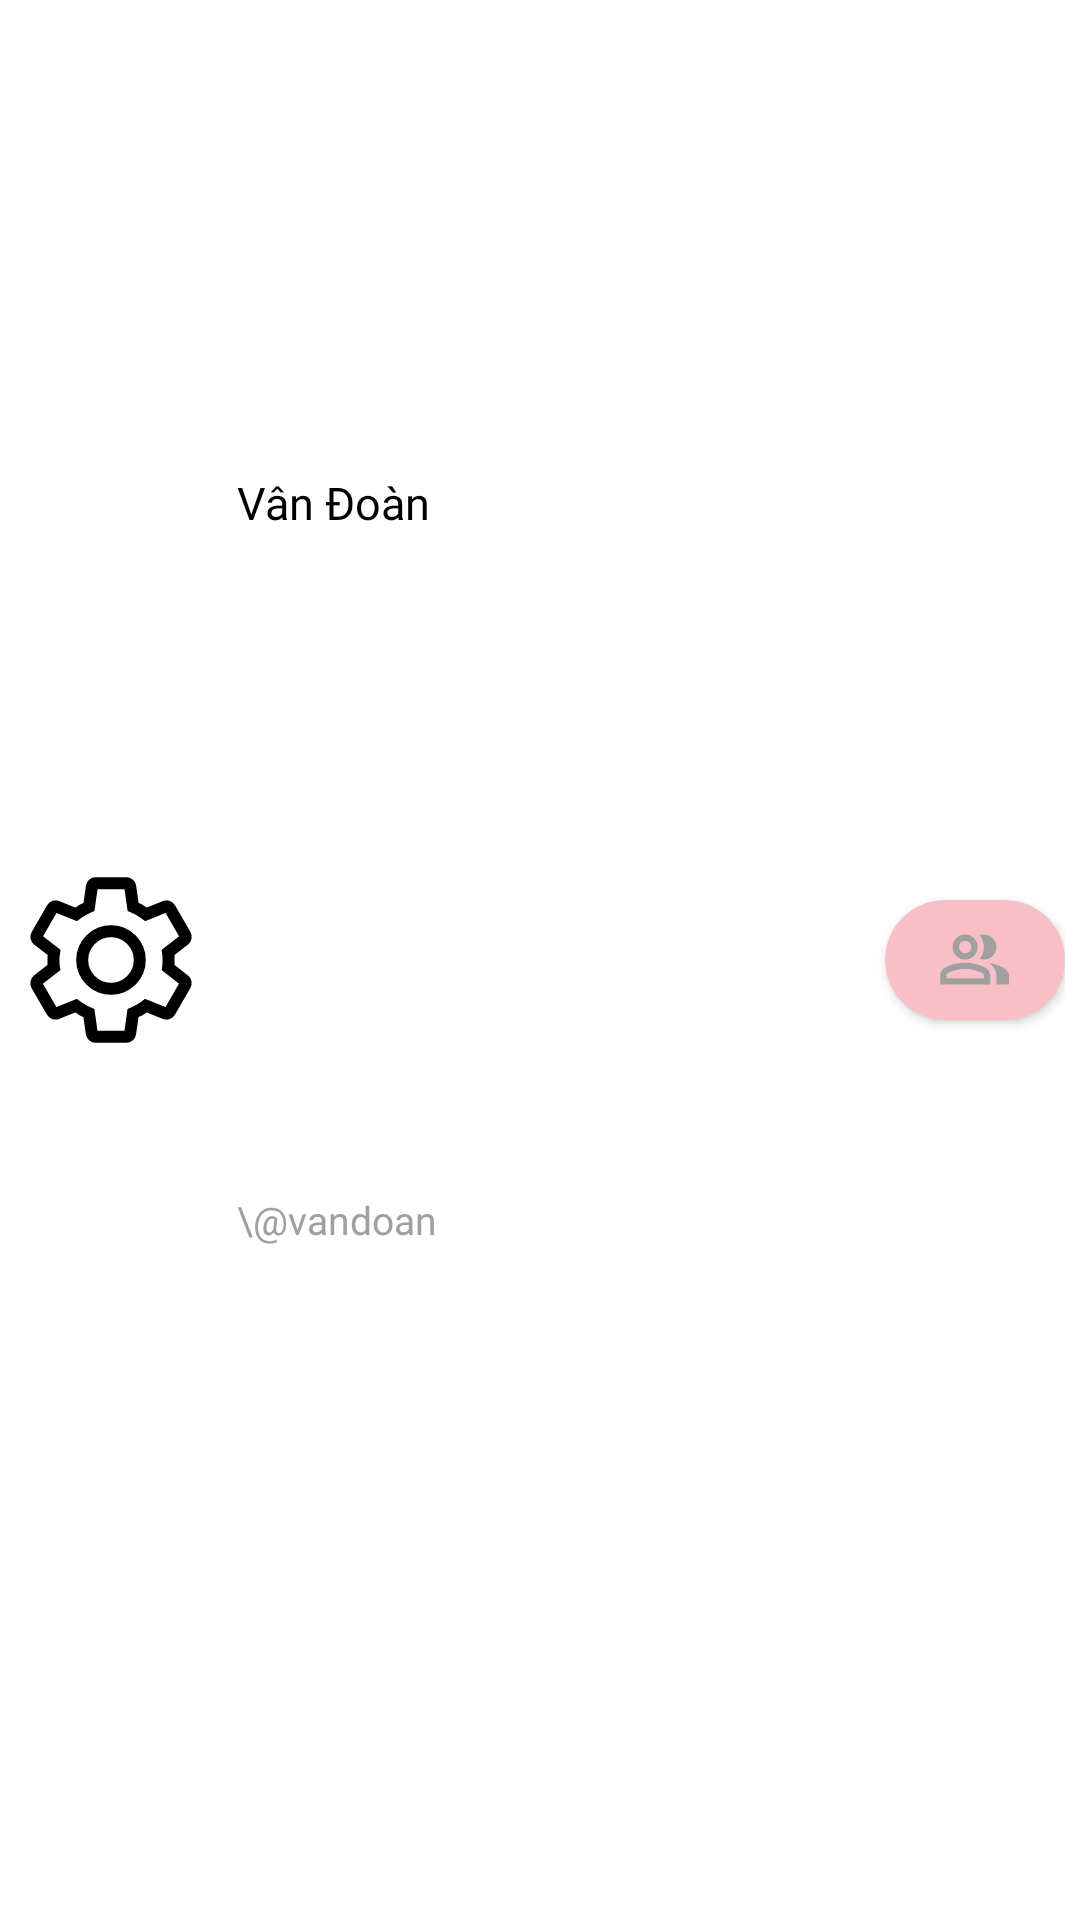

Named icons in this screenshot (1080w x 1920h) and their centers, (x=x, y=y):
friend: (x=974, y=959)
setting: (x=111, y=960)
